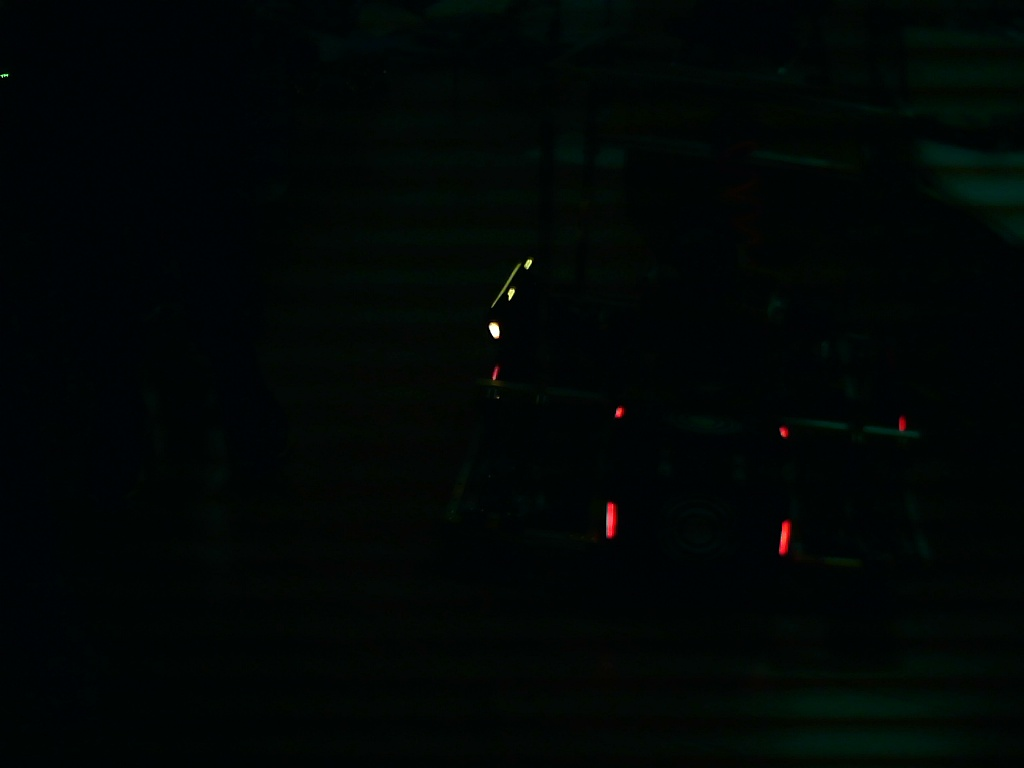lamp: (599, 496, 622, 544), (777, 517, 791, 558)
